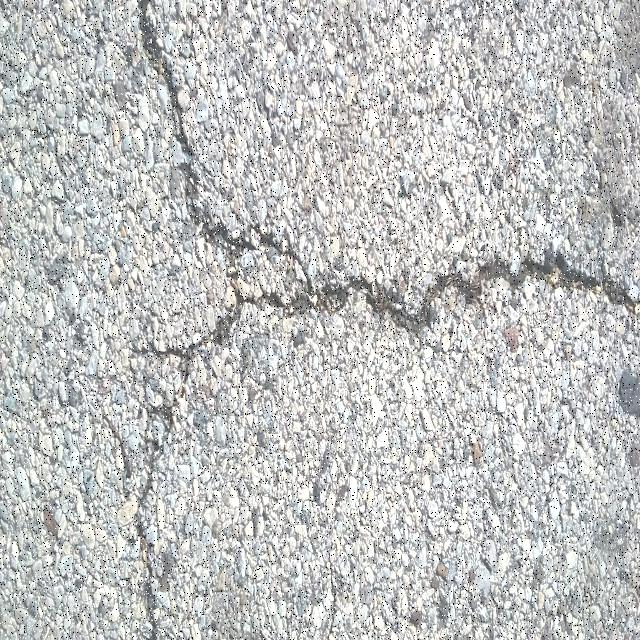Crack: (128, 0, 640, 640)
